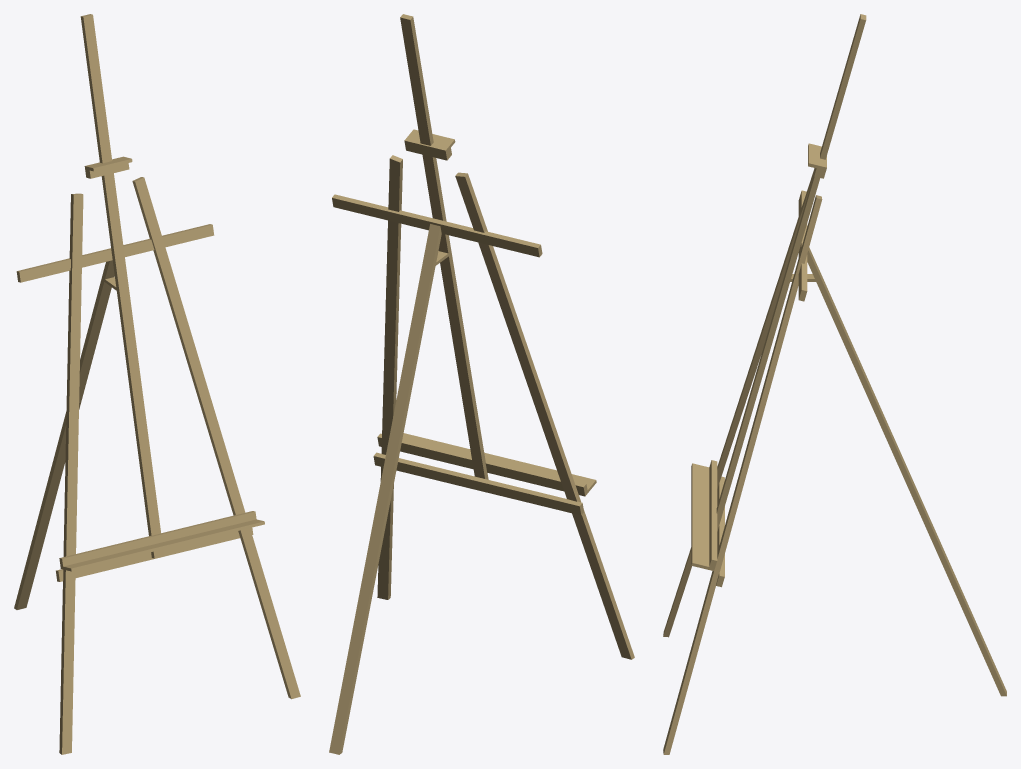
File: atrill.fbx
The picture shows the model from 3 angles, left to right: view 1: azimuth 30°, elevation 25°; view 2: azimuth 150°, elevation 25°; view 3: azimuth 270°, elevation 25°; orthographic projection. The views are drawn at different scales.
Parts seen in each view (by area): view 1: Cube.079; view 2: Cube.079; view 3: Cube.079.
Part boxes in pixels (x1,y1,x2,y2): Cube.079: (14,14,300,754); Cube.079: (329,14,634,754); Cube.079: (663,14,1006,754).
Bounding box in the file's own units: 98.82 × 254 × 117.
